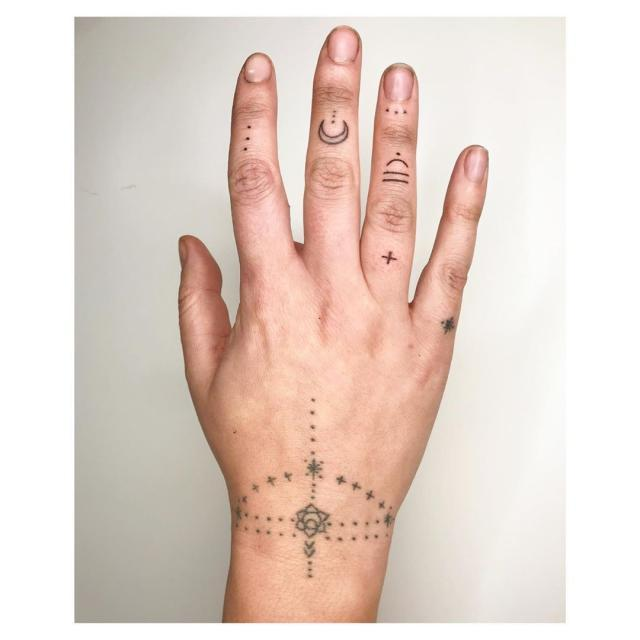no-gloves: (177, 26, 490, 514)
